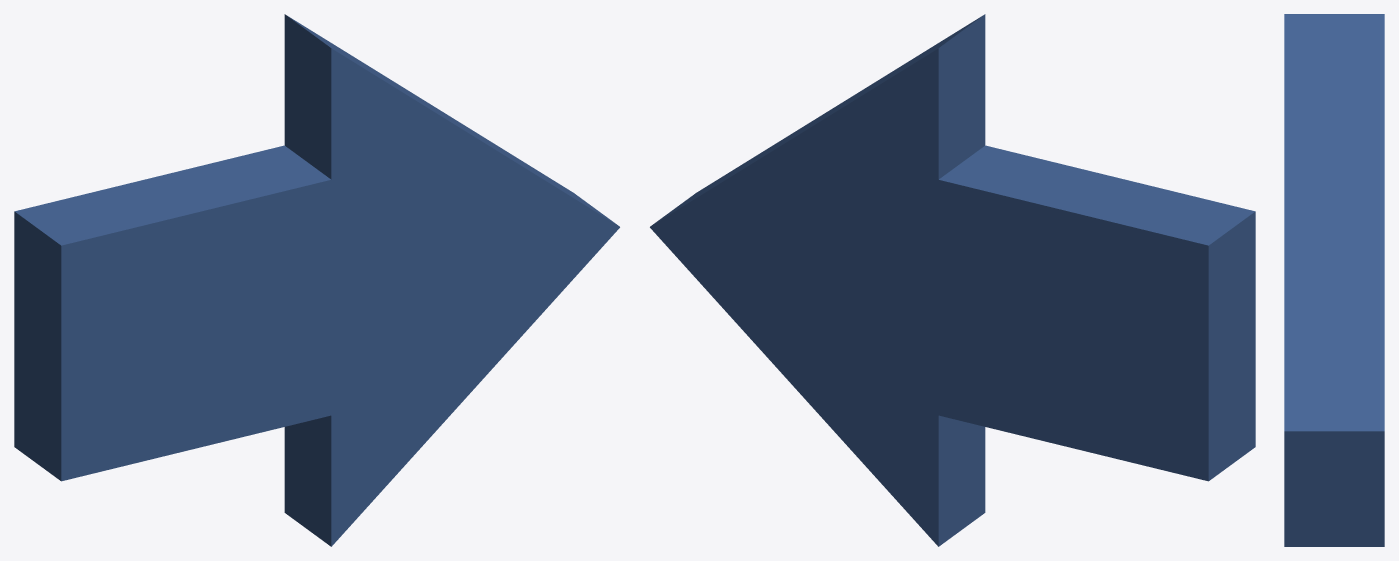
File: ArrowNext.glb
3 renders of one model, left to right at view 1: azimuth 30°, elevation 25°; view 2: azimuth 150°, elevation 25°; view 3: azimuth 270°, elevation 25°, orthographic. The views are drawn at different scales.
Parts seen in each view (by area): view 1: ArrowNext.1; view 2: ArrowNext.1; view 3: ArrowNext.1.
Boxes of the visible parts, box(x1,y1,x2,y2) form: ArrowNext.1: box(14, 14, 619, 546); ArrowNext.1: box(650, 14, 1255, 546); ArrowNext.1: box(1284, 14, 1384, 546).
Size of the model in its own units: 53.71 by 45.77 by 7.79.
Materials: 1 (1 with a texture image).
